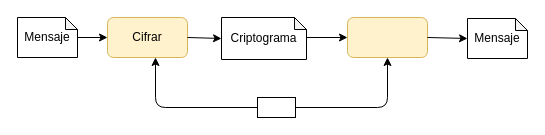
Image size: 545x135. Some labels were removed from this diagram. Here are the shapes that lost their labels. From the top down, the centre of each, then its label:
At point (387, 37): "Descifrar".
At point (276, 107): "Clave".
